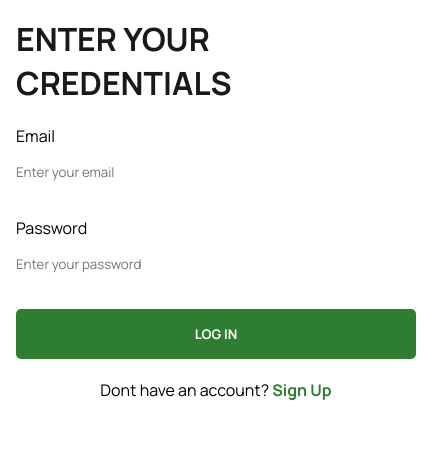
Test: SignIn › Password Is Invalid
Type "hjbfg" into the password field labelled "Password" at (216, 264), box [16,239,416,289]
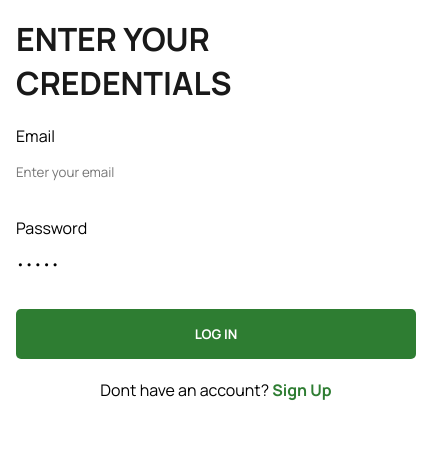
Click the button at (216, 334), box [16,309,416,359]
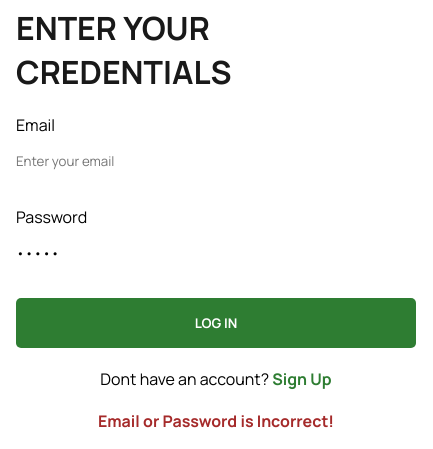
expect the text "Email or Password is Incorrect!" is shown: met, box [98,410,334,432]
